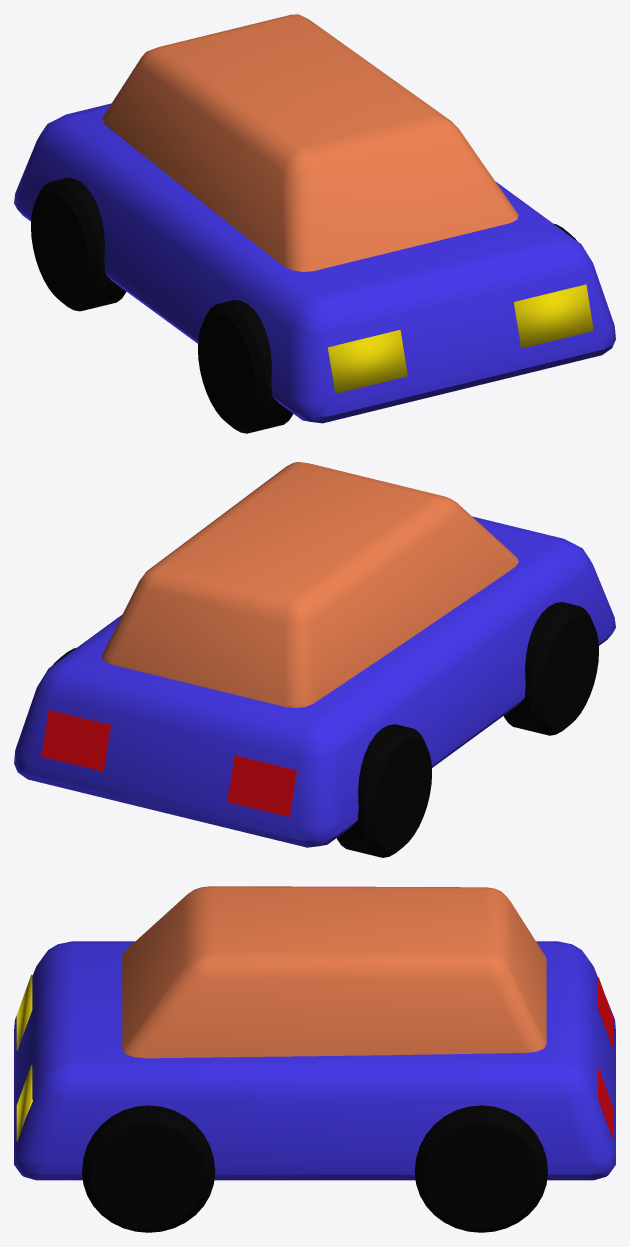
File: Car.fbx
3 views of the same model, one above another, from view 1: azimuth 30°, elevation 25°; view 2: azimuth 150°, elevation 25°; view 3: azimuth 270°, elevation 25° (orthographic).
Visible parts, largest first — view 1: CarBody, CarCabin, Wheel_Back_Right, Wheel_Front_Right, Far_Front_Left, Far_Front_Right; view 2: CarBody, CarCabin, Wheel_Front_Right, Wheel_Back_Right, Far_Back_Left, Far_Back_Right; view 3: CarBody, CarCabin, Wheel_Back_Left, Wheel_Front_Left, Far_Front_Right, Far_Front_Left, Far_Back_Right, Far_Back_Left.
Boxes of the visible parts, x1=… form: CarBody: x1=14, y1=103, x2=615, y2=423; CarCabin: x1=102, y1=14, x2=518, y2=271; Wheel_Back_Right: x1=31, y1=177, x2=126, y2=311; Wheel_Front_Right: x1=198, y1=300, x2=292, y2=433; Far_Front_Left: x1=327, y1=330, x2=407, y2=393; Far_Front_Right: x1=513, y1=284, x2=593, y2=348; CarBody: x1=14, y1=516, x2=615, y2=847; CarCabin: x1=102, y1=462, x2=518, y2=707; Wheel_Front_Right: x1=503, y1=602, x2=598, y2=735; Wheel_Back_Right: x1=336, y1=724, x2=431, y2=857; Far_Back_Left: x1=41, y1=710, x2=110, y2=771; Far_Back_Right: x1=227, y1=755, x2=296, y2=816; CarBody: x1=14, y1=941, x2=615, y2=1180; CarCabin: x1=122, y1=886, x2=546, y2=1058; Wheel_Back_Left: x1=414, y1=1105, x2=547, y2=1232; Wheel_Front_Left: x1=82, y1=1105, x2=215, y2=1232; Far_Front_Right: x1=16, y1=1065, x2=32, y2=1140; Far_Front_Left: x1=16, y1=974, x2=32, y2=1050; Far_Back_Right: x1=597, y1=977, x2=613, y2=1048; Far_Back_Left: x1=597, y1=1067, x2=613, y2=1138.
Size of the model in its own units: 166 by 108 by 253.
